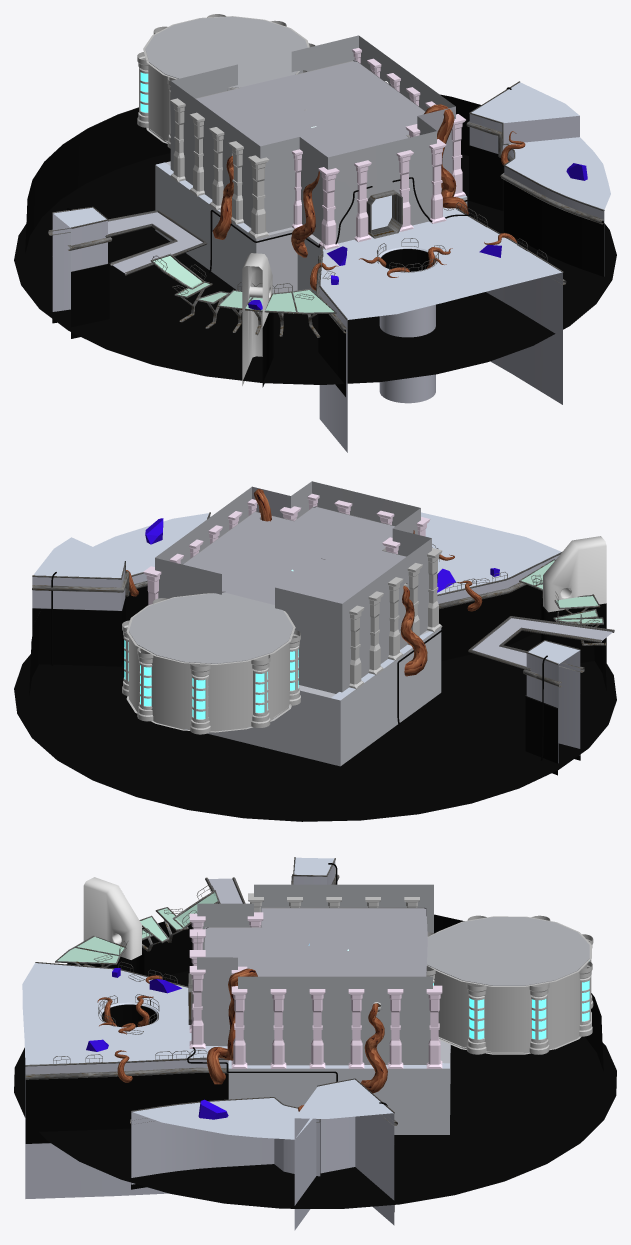
The model's file is TourFini.fbx.
3 views of the same model, one above another, from view 1: azimuth 30°, elevation 25°; view 2: azimuth 150°, elevation 25°; view 3: azimuth 270°, elevation 25° (orthographic).
Parts seen in each view (by area): view 1: SolTour, Salle1.001, Sol_011.003, Salle1Plafond, Sol_009.001, SalleAscenseurPlafond, Sol_007.001, Sol_022, Sol_011.002, Cube.006, Sol_010.001, Sol_009 (+28 smaller); view 2: SolTour, Salle1.001, Salle1Plafond, Sol_009.001, Sol_022, SalleAscenseurPlafond, SalleAscenseur_001, Sol_011.003, Cube.006, Cube.010, Sol_009, Sol_010.001 (+18 smaller); view 3: SolTour, Salle1.001, Sol_011.003, Salle1Plafond, SalleAscenseurPlafond, Sol_009.001, SalleAscenseur_001, Sol_022, Sol_010, Sol_011, Sol_011.002, Cube.005 (+17 smaller).
Boxes of the visible parts, x1,y1,x2,y2 form: SolTour: (14, 153, 616, 384); Salle1.001: (170, 35, 455, 243); Sol_011.003: (156, 162, 562, 319); Salle1Plafond: (196, 60, 425, 157); Sol_009.001: (52, 145, 603, 396); SalleAscenseurPlafond: (145, 16, 307, 87); Sol_007.001: (25, 94, 480, 252); Sol_022: (155, 161, 467, 293); Sol_011.002: (319, 272, 562, 452); Cube.006: (170, 98, 269, 239); Sol_010.001: (505, 137, 610, 209); Sol_009: (52, 214, 107, 311); SolTour: (14, 633, 616, 821); Salle1.001: (155, 481, 431, 693); Salle1Plafond: (183, 506, 406, 604); Sol_009.001: (32, 585, 580, 775); Sol_022: (208, 628, 441, 766); SalleAscenseurPlafond: (129, 592, 293, 663); SalleAscenseur_001: (126, 593, 295, 732); Sol_011.003: (331, 512, 561, 700); Cube.006: (349, 548, 442, 689); Cube.010: (543, 536, 606, 612); Sol_009: (526, 650, 580, 763); Sol_010.001: (93, 513, 209, 575); SolTour: (14, 970, 616, 1208); Salle1.001: (197, 884, 433, 1065); Sol_011.003: (22, 963, 449, 1068); Salle1Plafond: (204, 908, 427, 976); SalleAscenseurPlafond: (427, 917, 589, 985); Sol_009.001: (25, 1073, 394, 1211); SalleAscenseur_001: (426, 916, 591, 1054); Sol_022: (228, 1040, 450, 1134); Sol_010: (131, 1112, 320, 1184); Sol_011: (294, 1113, 394, 1230); Sol_011.002: (25, 1059, 228, 1198); Cube.005: (231, 985, 442, 1068).
Size of the model in its own units: 7664 by 3133 by 7664.
